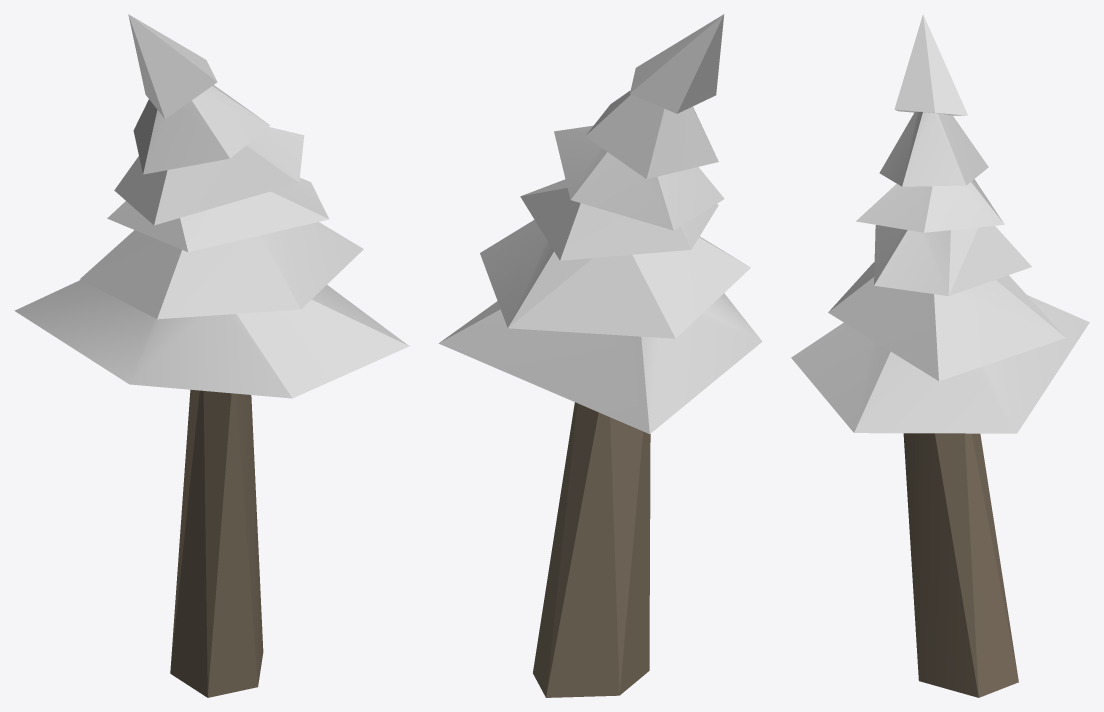
File: Vegetation_Tree_Alpine_Snow_06.fbx
3 views of the same model, side by side, from view 1: azimuth 30°, elevation 25°; view 2: azimuth 150°, elevation 25°; view 3: azimuth 270°, elevation 25° (orthographic). The views are drawn at different scales.
Visible parts, largest first — view 1: Vegetation_Tree_Alpine_Snow_06; view 2: Vegetation_Tree_Alpine_Snow_06; view 3: Vegetation_Tree_Alpine_Snow_06.
Part boxes in pixels (box(x1,y1,x2,y2)): Vegetation_Tree_Alpine_Snow_06: box(14, 14, 409, 697); Vegetation_Tree_Alpine_Snow_06: box(438, 14, 762, 697); Vegetation_Tree_Alpine_Snow_06: box(791, 14, 1089, 697).
Size of the model in its own units: 98.99 by 251 by 111.
